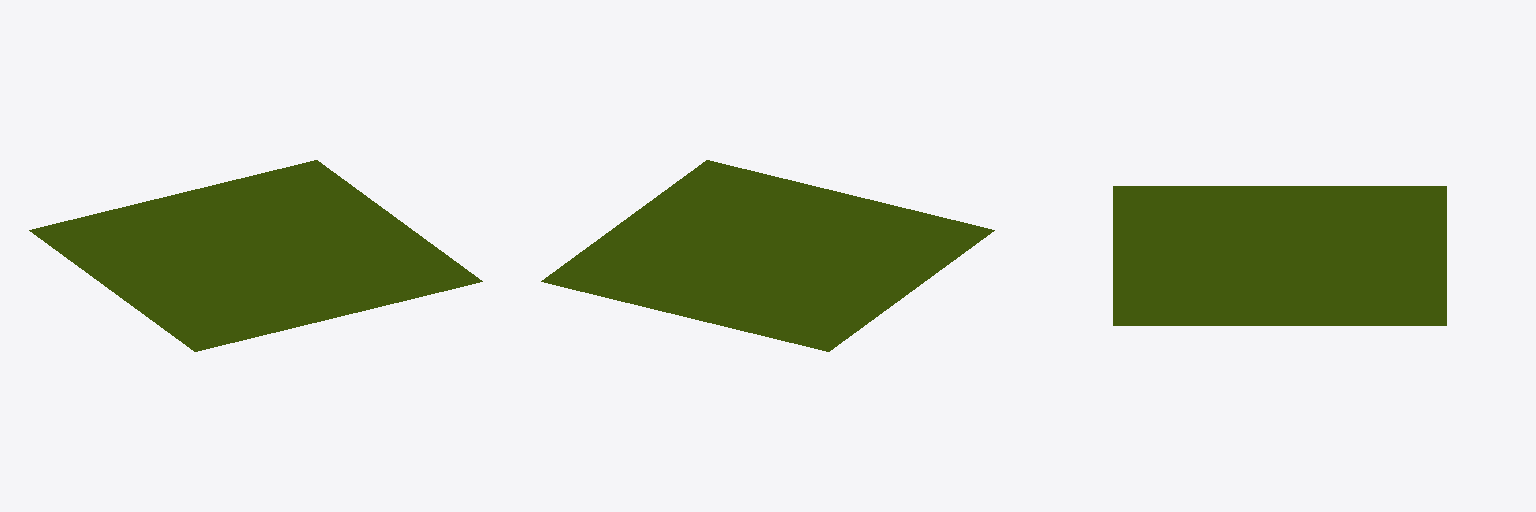
The model's file is forestfloor.obj.
3 renders of one model, left to right at view 1: azimuth 30°, elevation 25°; view 2: azimuth 150°, elevation 25°; view 3: azimuth 270°, elevation 25°, orthographic.
Parts seen in each view (by area): view 1: Cube; view 2: Cube; view 3: Cube.
Part boxes in pixels (x1,y1,x2,y2): Cube: (29,160,482,351); Cube: (541,160,994,351); Cube: (1113,186,1446,325).
Bounding box in the file's own units: 250 × 0 × 250.